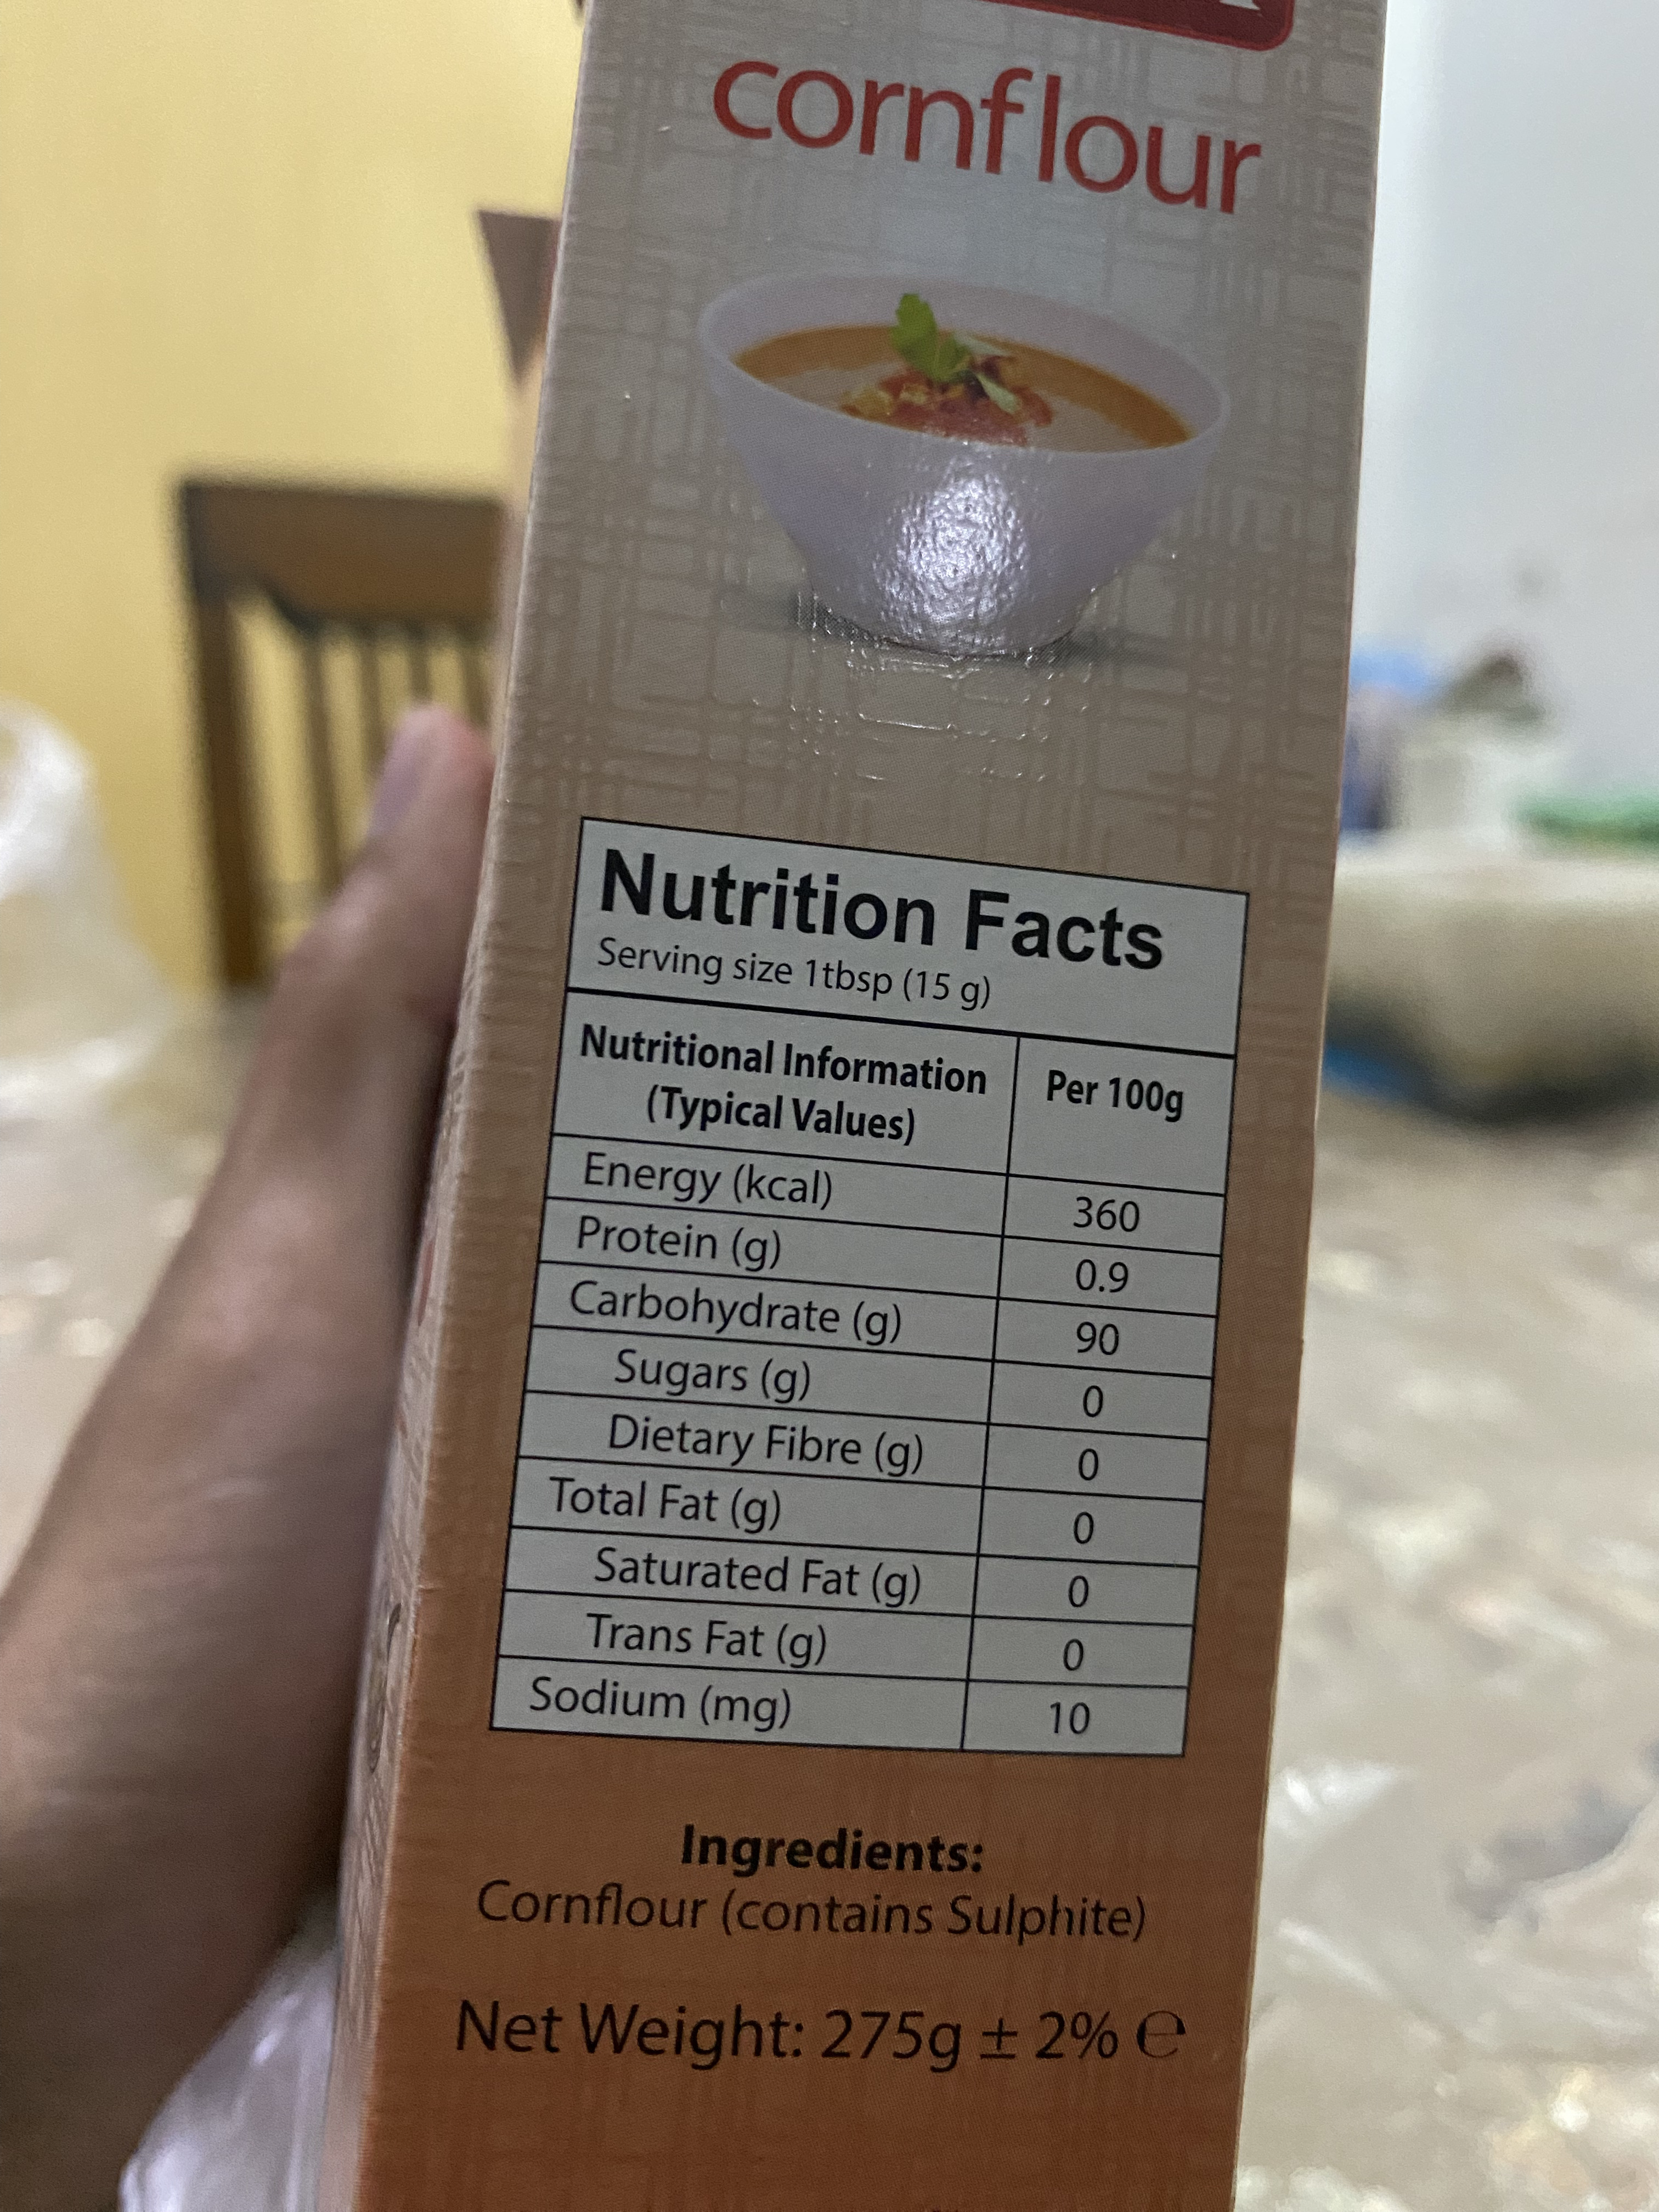table: (490, 817, 1258, 1763)
